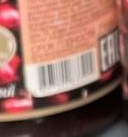1d: (36, 51, 96, 88)
